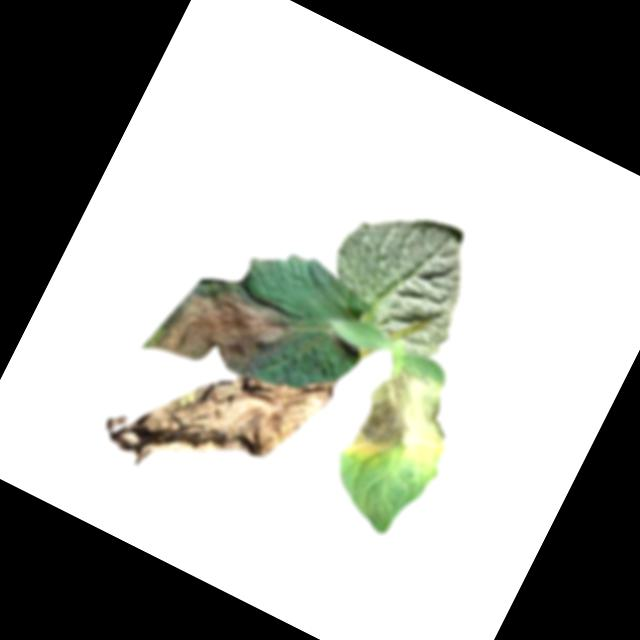Late_blight: (94, 298, 339, 530), (148, 261, 302, 403), (345, 356, 471, 484)
